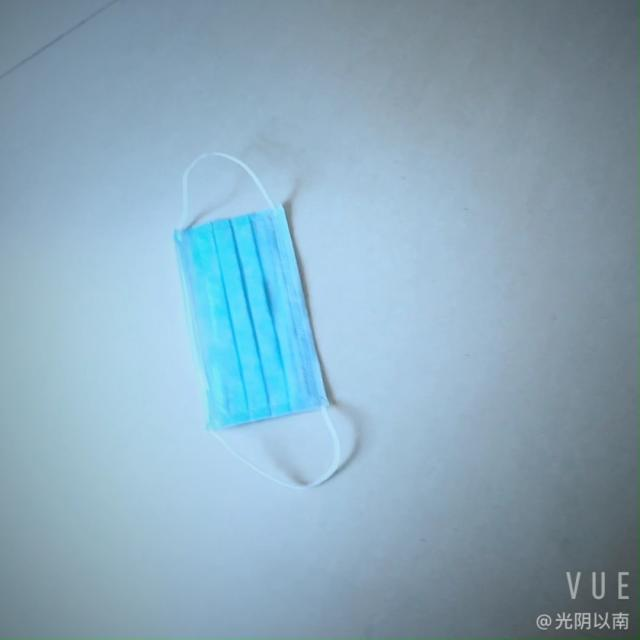non-organic waste: (182, 192, 327, 437)
